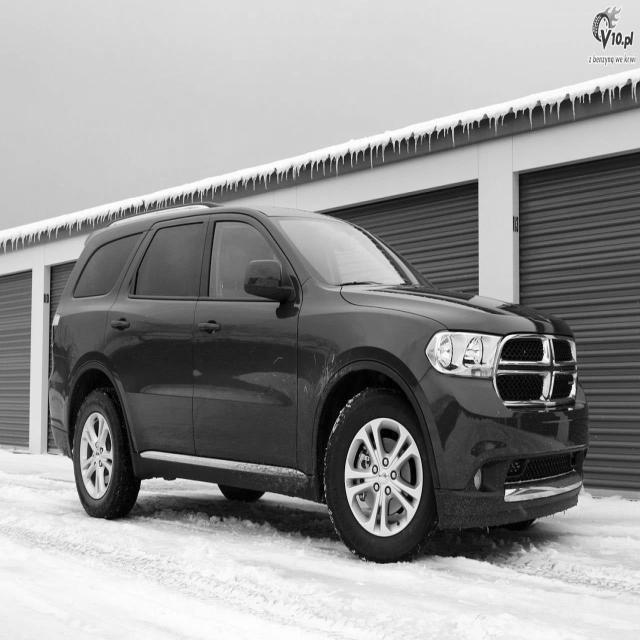car: (48, 202, 590, 564)
